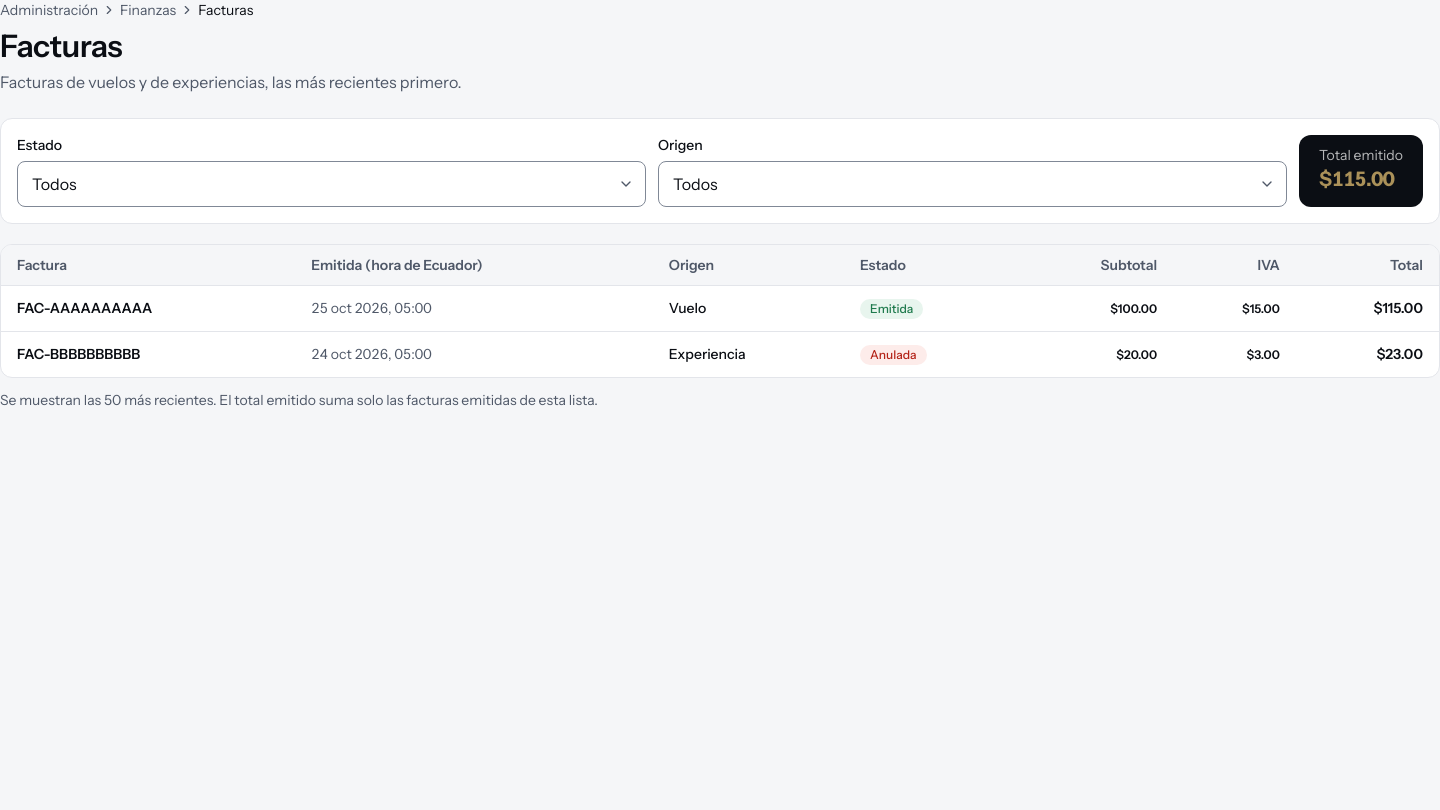
Test: AdminInvoicesPage › opens the detail with its lines, VAT and totals
Click the button with aria-label "Ver el detalle de la factura FAC-AAAAAAAAAA" at (85, 308), box [17,298,152,318]
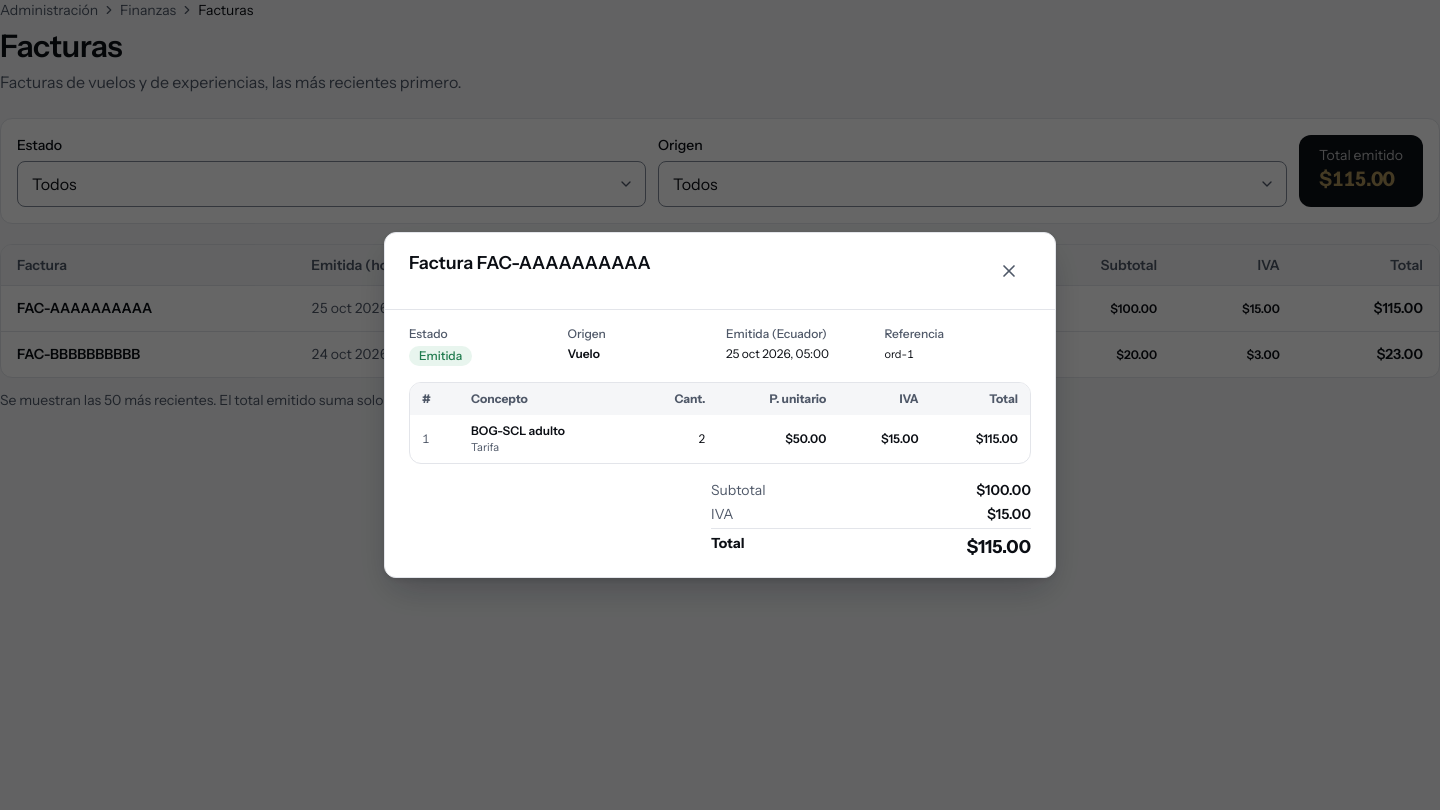
Result: the text "BOG-SCL adulto" is shown at [471,423,565,438]
Result: the element showing "$100.00" is shown at [976,480,1031,500]
Result: the element showing "$15.00" is shown at [987,504,1031,524]
